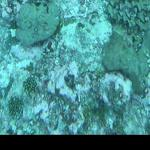dead: (1, 1, 147, 133)
